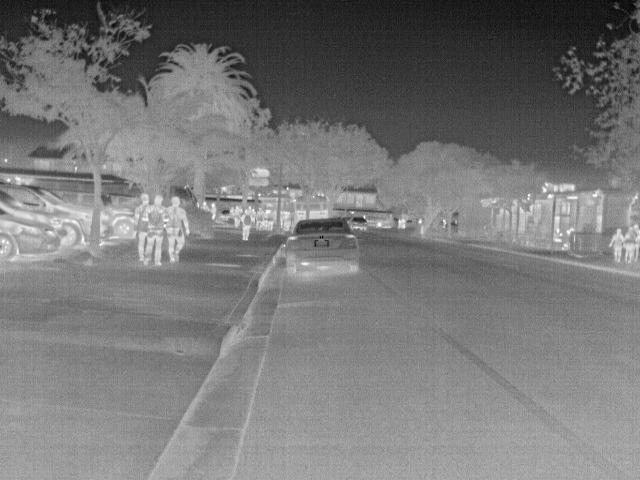car: (1, 180, 94, 250), (283, 219, 359, 278), (1, 206, 62, 262), (101, 205, 136, 240), (348, 214, 369, 232), (217, 208, 237, 225)
person: (142, 194, 168, 267), (164, 193, 191, 263), (132, 193, 152, 263), (609, 227, 626, 262), (623, 225, 637, 264), (239, 209, 251, 241), (263, 208, 276, 234), (552, 228, 568, 244)
